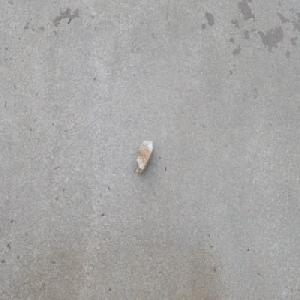Rock: (134, 139, 153, 174)
